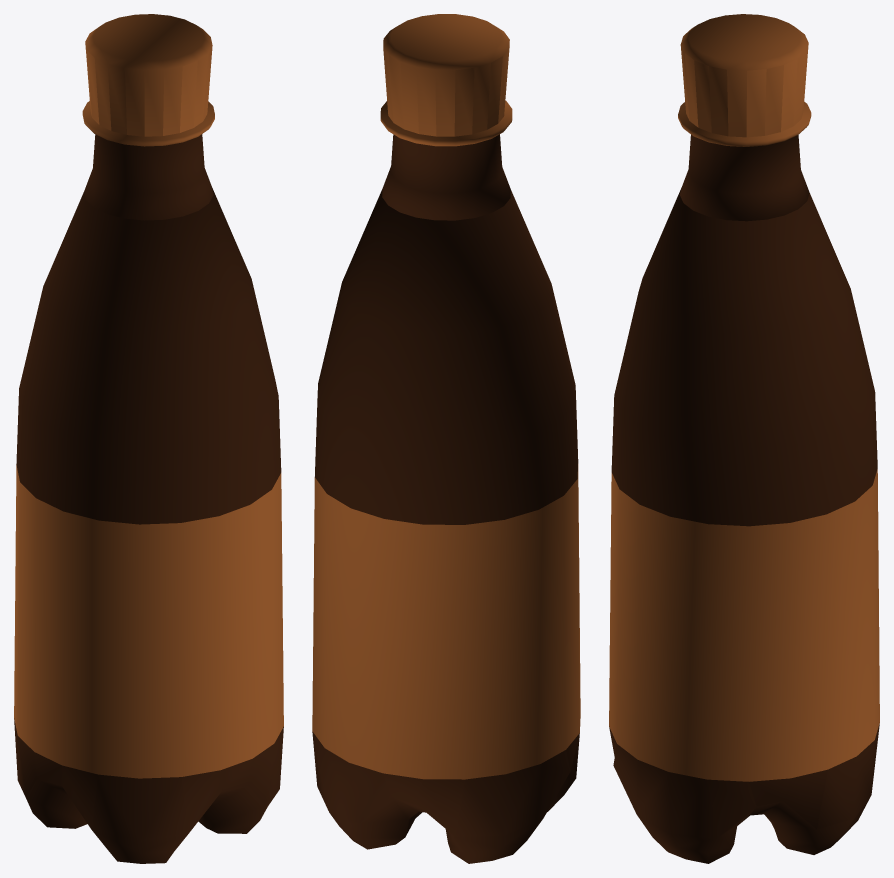
The model's file is Coffee.fbx.
The picture shows the model from 3 angles, left to right: view 1: azimuth 30°, elevation 25°; view 2: azimuth 150°, elevation 25°; view 3: azimuth 270°, elevation 25°; orthographic projection.
Visible parts, largest first — view 1: Node 0; view 2: Node 0; view 3: Node 0.
Part boxes in pixels (x1,y1,x2,y2): Node 0: [14, 14, 283, 863]; Node 0: [312, 14, 580, 863]; Node 0: [609, 14, 879, 863].
Bounding box in the file's own units: 0.0519 × 0.1663 × 0.0523.
